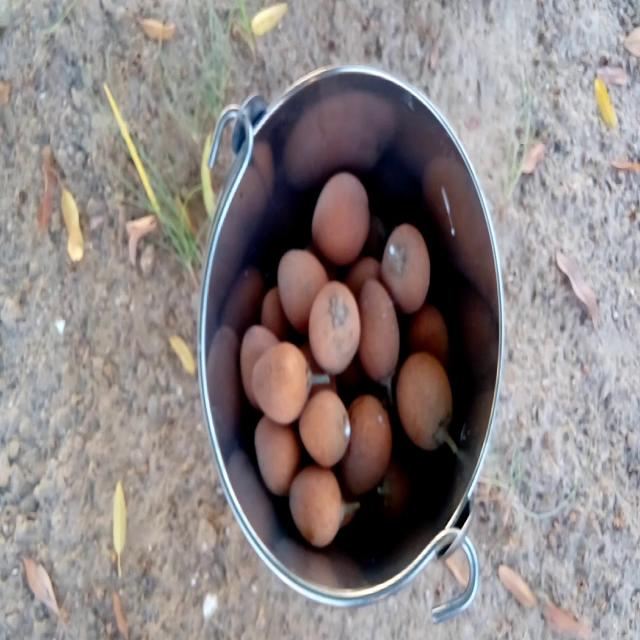kiwi: (396, 352, 452, 450), (312, 173, 369, 265), (205, 327, 243, 458), (341, 396, 391, 495), (309, 281, 360, 374), (252, 343, 309, 423), (381, 224, 430, 313), (358, 280, 399, 385), (289, 466, 342, 547), (277, 250, 328, 334), (299, 391, 350, 467), (254, 416, 300, 495), (240, 326, 278, 407), (221, 268, 264, 335), (408, 304, 449, 367), (377, 458, 410, 519), (345, 257, 380, 298), (261, 287, 288, 340), (310, 376, 336, 397)
